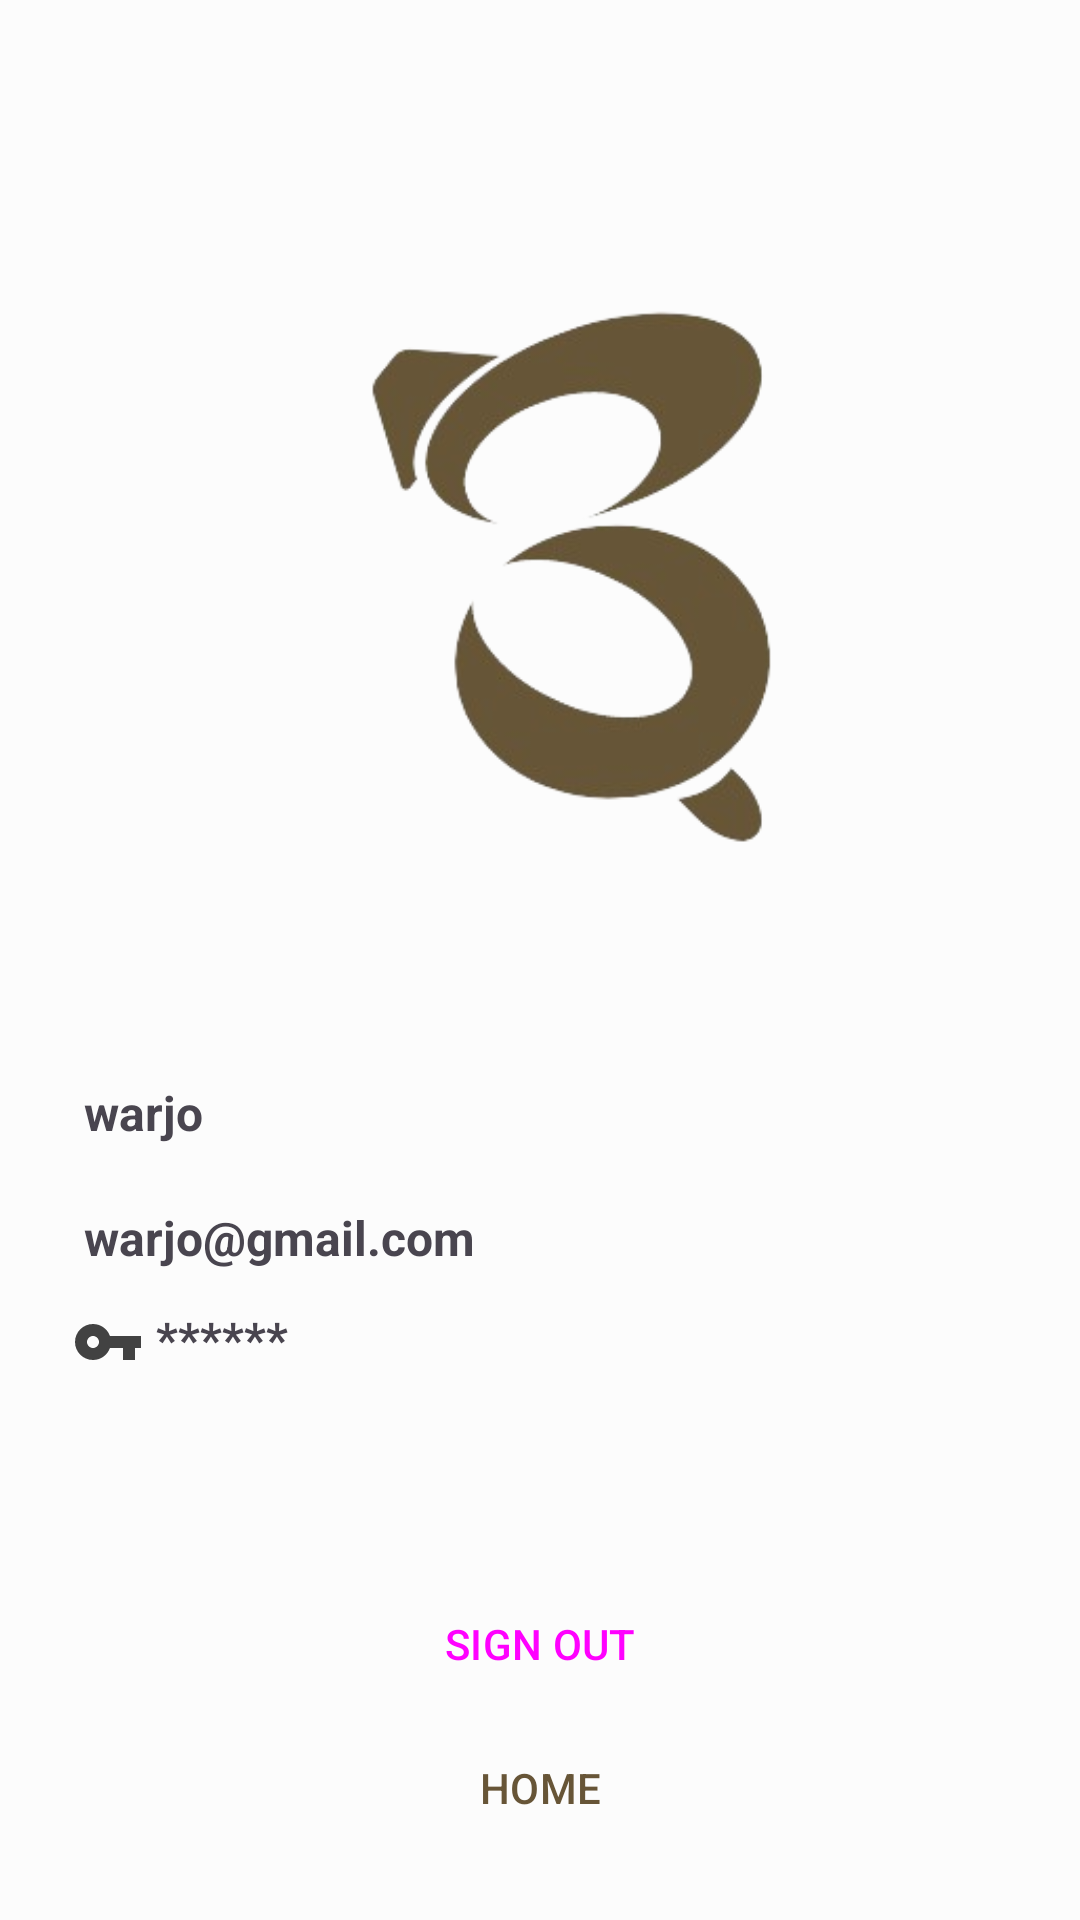

Where to tap for icons on this 1080w x 1920h app screen, as (x,y):
key: (108,1342)
